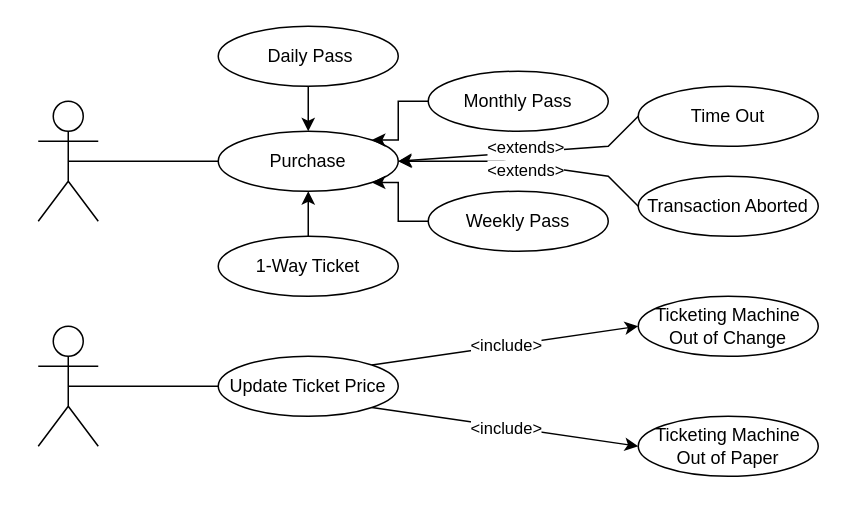
The diagram is 845 pixels wide and 527 high, and some of its shapes have lost their labels. The shapes that lost their labels are listed below. From the top down, each one's centre as x and y in pixels, then its label:
At [67,160]: "Passenger".
At [67,385]: "Central Facility".
